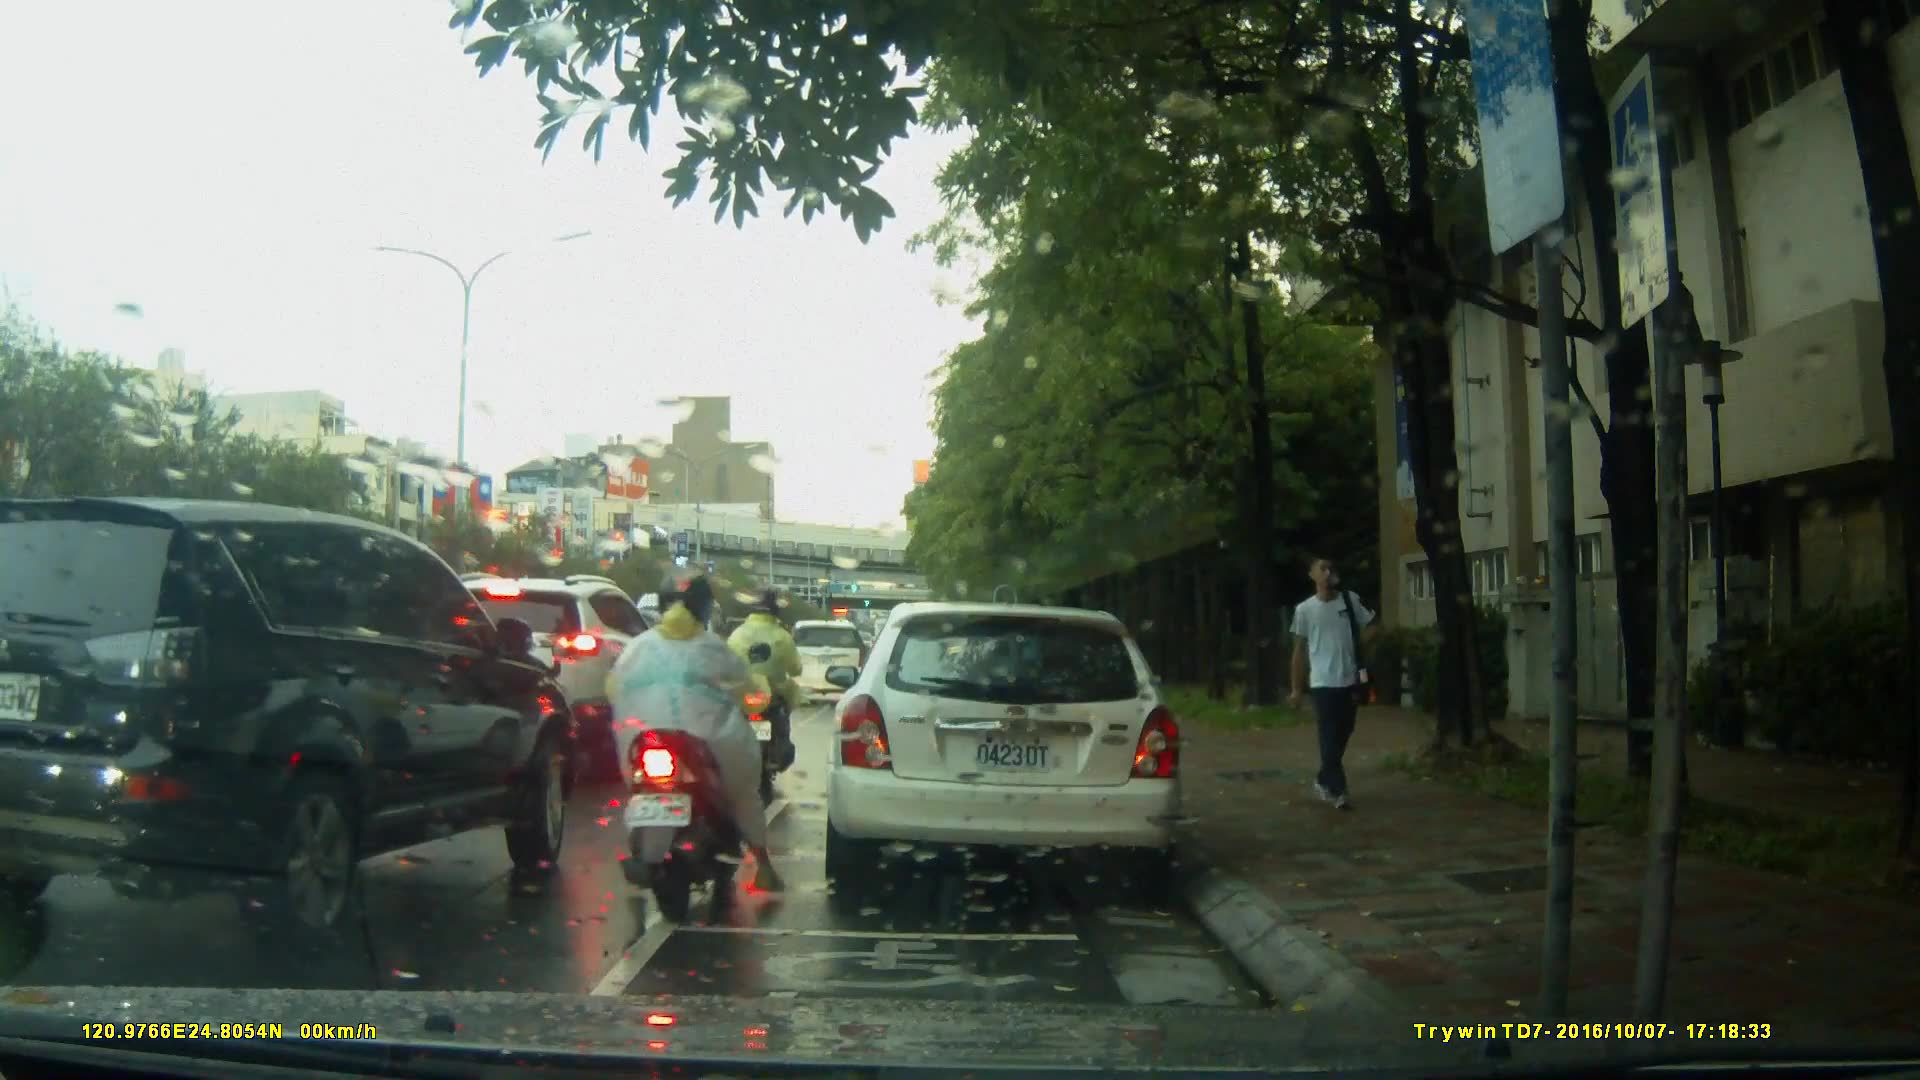pedestrian: (1269, 548, 1378, 820)
rider: (610, 570, 778, 929), (725, 588, 810, 787)
vehicle: (1, 496, 595, 943), (820, 602, 1188, 898), (390, 571, 685, 774), (627, 591, 741, 712), (771, 617, 875, 708)
